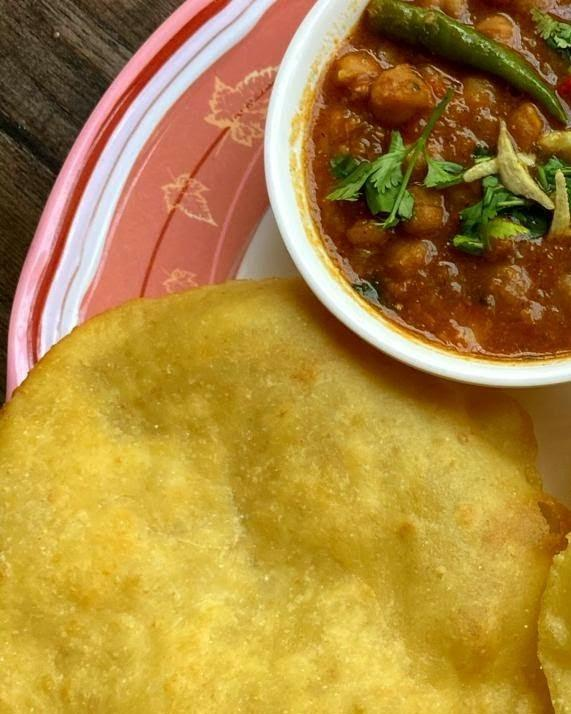Bhatura: (0, 279, 571, 714)
